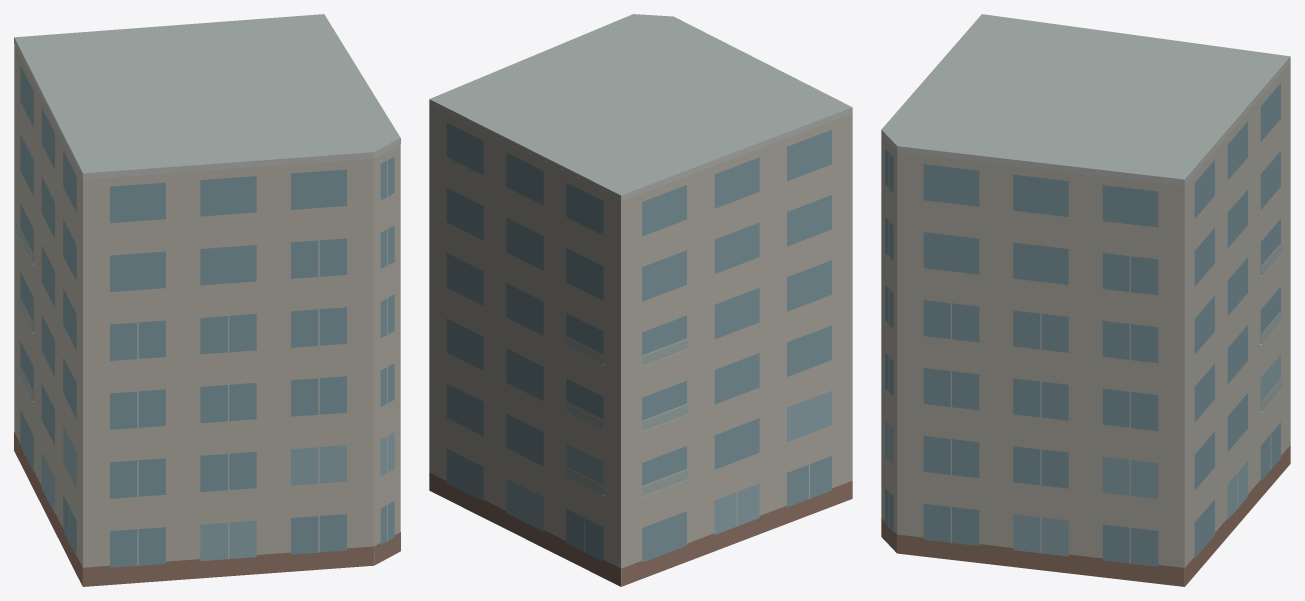
File: survey-upis-32529468.glb
The picture shows the model from 3 angles, left to right: view 1: azimuth 30°, elevation 25°; view 2: azimuth 150°, elevation 25°; view 3: azimuth 270°, elevation 25°; orthographic projection. The views are drawn at different scales.
Visible parts, largest first — view 1: survey-upis-32529468.tmp; view 2: survey-upis-32529468.tmp; view 3: survey-upis-32529468.tmp.
Part boxes in pixels (x1,y1,x2,y2): survey-upis-32529468.tmp: (14,14,400,586); survey-upis-32529468.tmp: (429,14,852,586); survey-upis-32529468.tmp: (881,14,1290,586).
Bounding box in the file's own units: 13.95 × 16 × 14.58.
